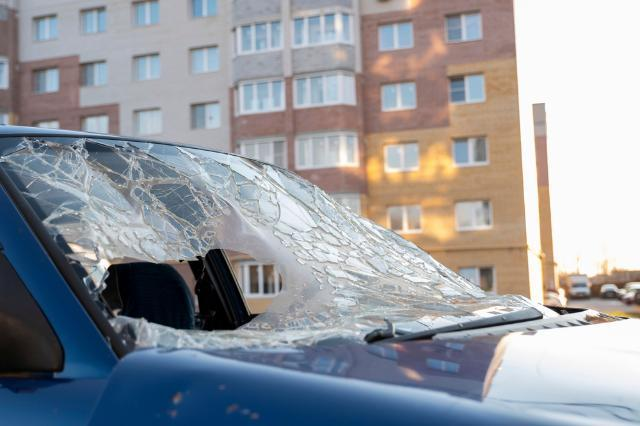glass shatter: (0, 137, 557, 353)
